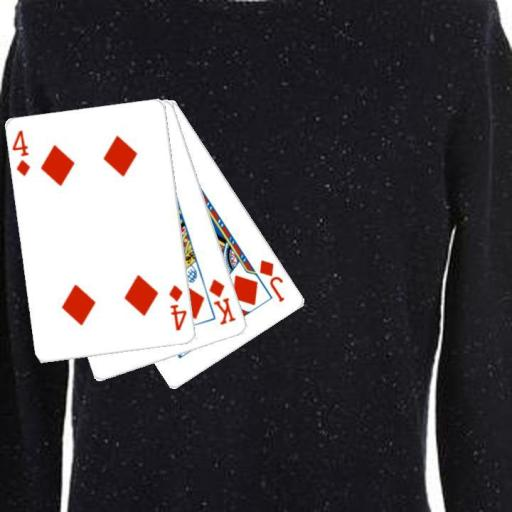4D: (167, 282, 189, 333), (10, 128, 32, 179)
JD: (256, 256, 287, 304)
KD: (206, 276, 238, 327)
